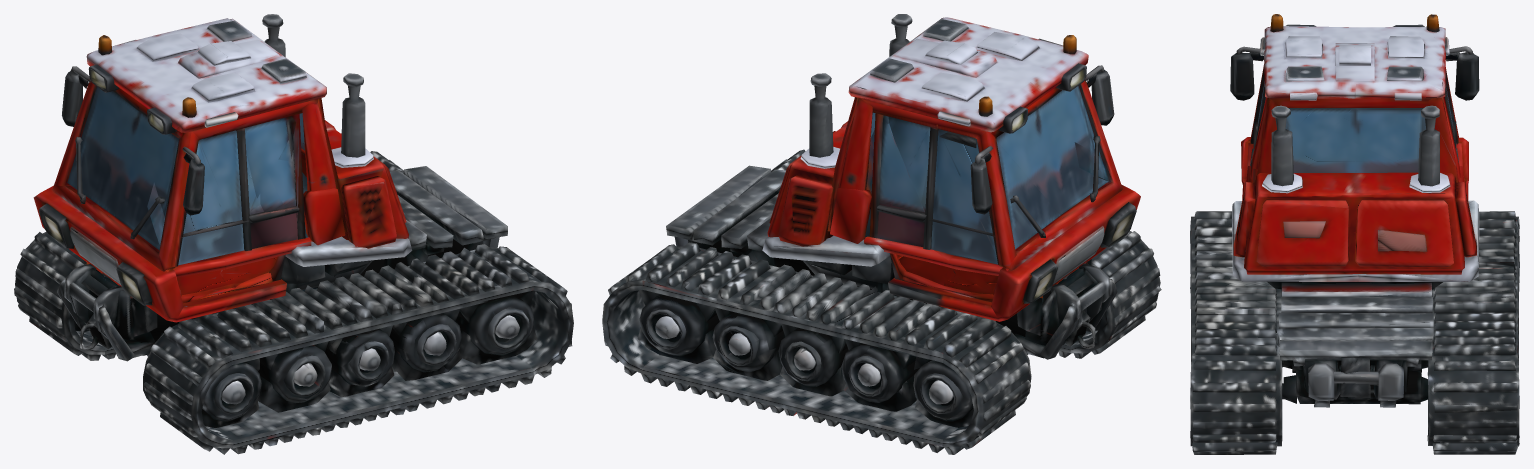
Rendered from snowcat.glb.
3 renders of one model, left to right at view 1: azimuth 30°, elevation 25°; view 2: azimuth 150°, elevation 25°; view 3: azimuth 270°, elevation 25°, orthographic. The views are drawn at different scales.
Visible parts, largest first — view 1: geometry_0; view 2: geometry_0; view 3: geometry_0.
Part boxes in pixels (<box>): geometry_0: <box>14,14,573,454</box>; geometry_0: <box>602,14,1161,454</box>; geometry_0: <box>1190,14,1519,454</box>.
Size of the model in its own units: 1 by 0.7718 by 0.7635.
Materials: 1 (1 with a texture image).
